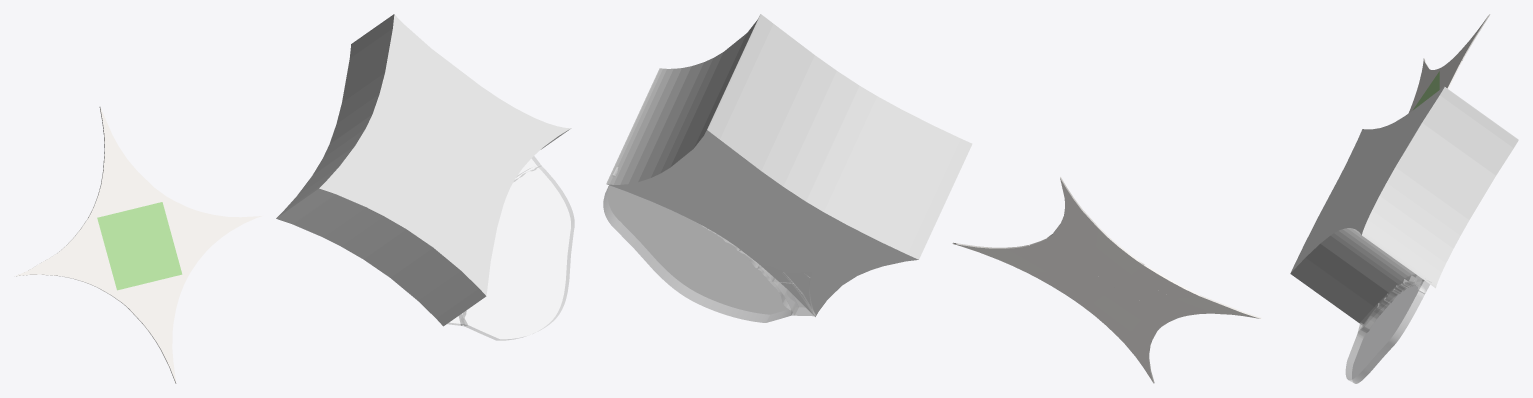
File: piece_decoupe_v04.glb
3 views of the same model, side by side, from view 1: azimuth 30°, elevation 25°; view 2: azimuth 150°, elevation 25°; view 3: azimuth 270°, elevation 25° (orthographic). The views are drawn at different scales.
Visible parts, largest first — view 1: surface_drop, piece1, couleurEtoile, papier_extrusion17, papier_extrusion13, papier_extrusion19, papier_extrusion1, papier_extrusion18, papier_extrusion5, papier_extrusion20, papier_extrusion4, papier_extrusion3 (+6 smaller); view 2: surface_drop, piece1, papier_extrusion13, papier_extrusion17, papier_extrusion19, papier_extrusion18, papier_extrusion14, papier_extrusion15, papier_extrusion1, fin, papier_extrusion20, papier_extrusion6 (+10 smaller); view 3: surface_drop, piece1, papier_extrusion17, couleurEtoile, extrusion8.
Part boxes in pixels (<box>): surface_drop: <box>276,14,571,326</box>; piece1: <box>463,166,574,340</box>; couleurEtoile: <box>97,202,182,290</box>; papier_extrusion17: <box>99,107,129,198</box>; papier_extrusion13: <box>122,162,165,209</box>; papier_extrusion19: <box>57,218,103,260</box>; papier_extrusion1: <box>192,215,261,246</box>; papier_extrusion18: <box>88,171,121,225</box>; papier_extrusion5: <box>171,207,213,241</box>; papier_extrusion20: <box>15,253,84,276</box>; papier_extrusion4: <box>148,313,176,383</box>; papier_extrusion3: <box>155,278,182,331</box>; surface_drop: <box>606,14,972,316</box>; piece1: <box>603,185,792,322</box>; papier_extrusion13: <box>1046,218,1094,263</box>; papier_extrusion17: <box>1060,177,1097,246</box>; papier_extrusion19: <box>1132,264,1200,298</box>; papier_extrusion18: <box>1095,226,1144,274</box>; papier_extrusion14: <box>1080,247,1130,286</box>; papier_extrusion15: <box>1115,275,1174,307</box>; papier_extrusion1: <box>952,242,1045,273</box>; fin: <box>773,279,815,316</box>; papier_extrusion20: <box>1175,295,1261,318</box>; papier_extrusion6: <box>1046,268,1103,302</box>; surface_drop: <box>1290,86,1518,325</box>; piece1: <box>1345,282,1424,383</box>; papier_extrusion17: <box>1447,14,1490,74</box>; couleurEtoile: <box>1413,71,1439,109</box>; extrusion8: <box>1357,306,1383,338</box>.
Size of the model in its own units: 0.5111 by 0.2726 by 0.2177.
